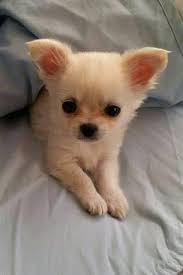chihuahua: (15, 31, 175, 233)
